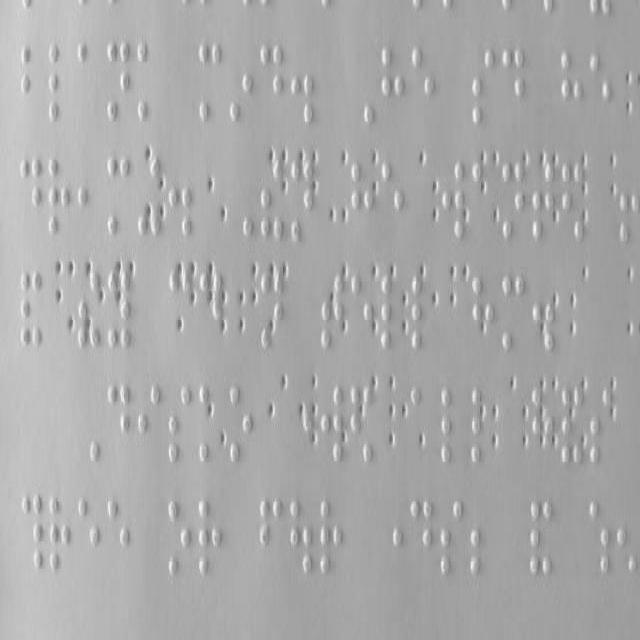braiile: (380, 44, 404, 134), (137, 378, 161, 466), (198, 496, 222, 584), (48, 44, 74, 125), (410, 43, 434, 130), (137, 42, 163, 122), (166, 384, 192, 464), (439, 384, 465, 464), (258, 45, 284, 124), (106, 153, 130, 238), (106, 382, 130, 467), (76, 493, 100, 578), (106, 493, 130, 578), (198, 42, 222, 126), (290, 160, 314, 244), (258, 496, 282, 580), (76, 41, 100, 123), (228, 384, 252, 466), (166, 497, 190, 579), (409, 497, 433, 579), (106, 42, 130, 122), (441, 160, 465, 240), (47, 494, 71, 574), (319, 496, 343, 576), (560, 48, 582, 134), (381, 161, 404, 243), (46, 156, 70, 234), (530, 163, 554, 241), (589, 51, 611, 136), (501, 162, 524, 242), (471, 51, 495, 127), (440, 497, 462, 579), (20, 44, 42, 125), (502, 49, 524, 129), (350, 162, 372, 242), (20, 156, 42, 234), (350, 272, 372, 350), (321, 386, 343, 464), (589, 388, 611, 466), (380, 276, 402, 352), (502, 276, 524, 352), (411, 276, 433, 351)
